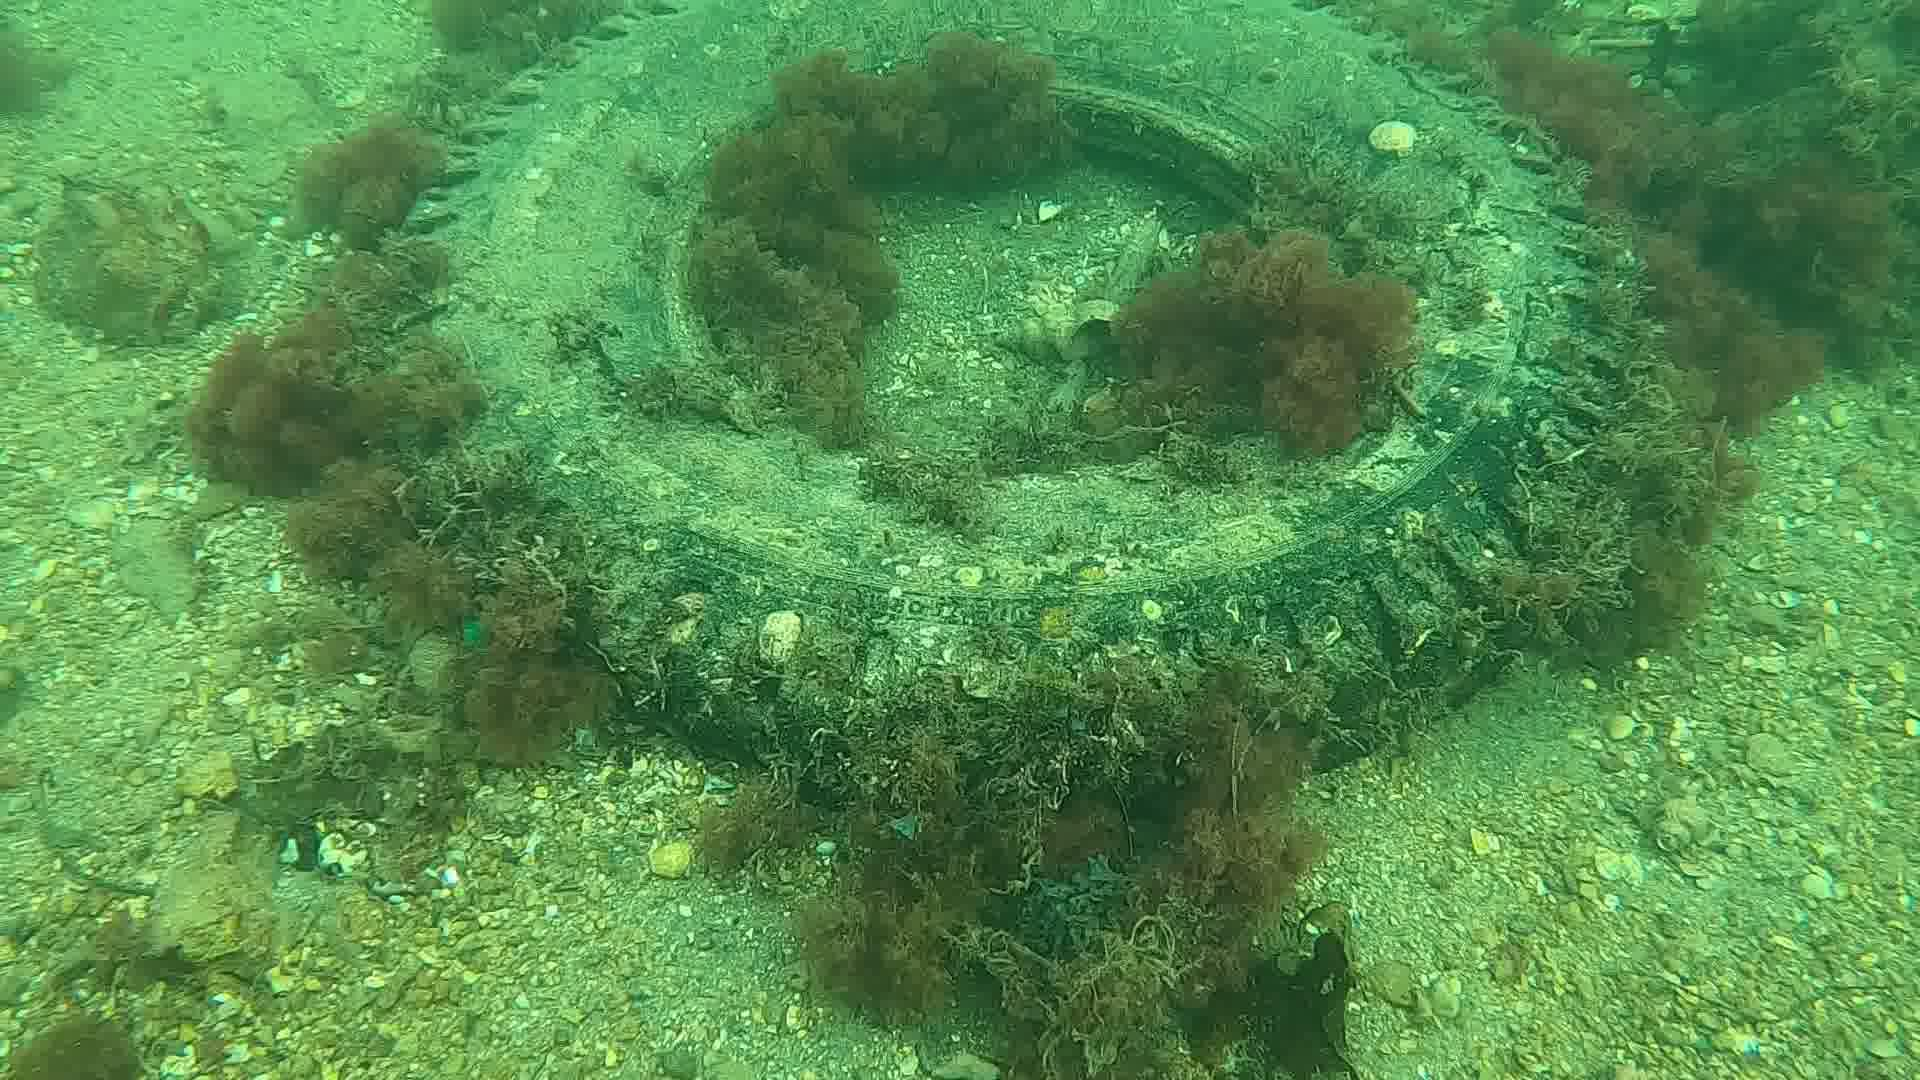tire: (407, 1, 1636, 818)
